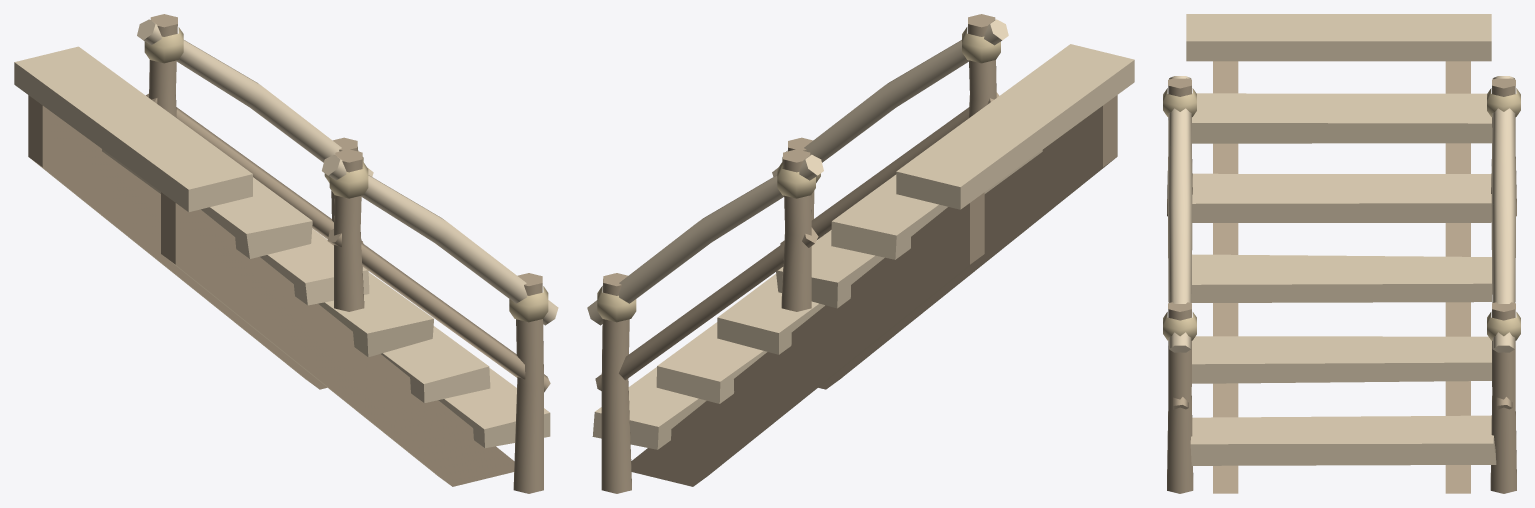
The model's file is building.stairs.glb.
3 views of the same model, side by side, from view 1: azimuth 30°, elevation 25°; view 2: azimuth 150°, elevation 25°; view 3: azimuth 270°, elevation 25° (orthographic). The views are drawn at different scales.
Parts seen in each view (by area): view 1: PaintDark, Paint, Rope; view 2: PaintDark, Paint, Rope; view 3: Paint, PaintDark, Rope.
Part boxes in pixels (box(x1,y1,x2,y2)): PaintDark: box(28, 14, 550, 493); Paint: box(14, 19, 558, 448); Rope: box(144, 27, 548, 322); PaintDark: box(595, 14, 1117, 493); Paint: box(587, 19, 1134, 449); Rope: box(597, 27, 1000, 322); Paint: box(1167, 14, 1516, 465); PaintDark: box(1167, 61, 1516, 493); Rope: box(1163, 88, 1520, 340).
Bounding box in the file's own units: 1.01 × 1 × 0.9835.
